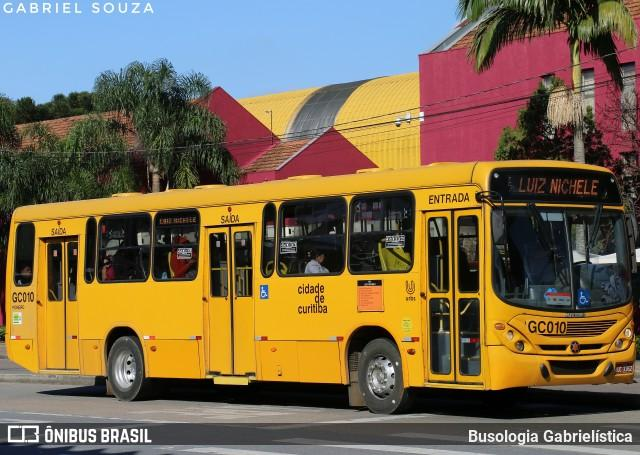LUIZ NICHELE: (516, 172, 602, 199)
